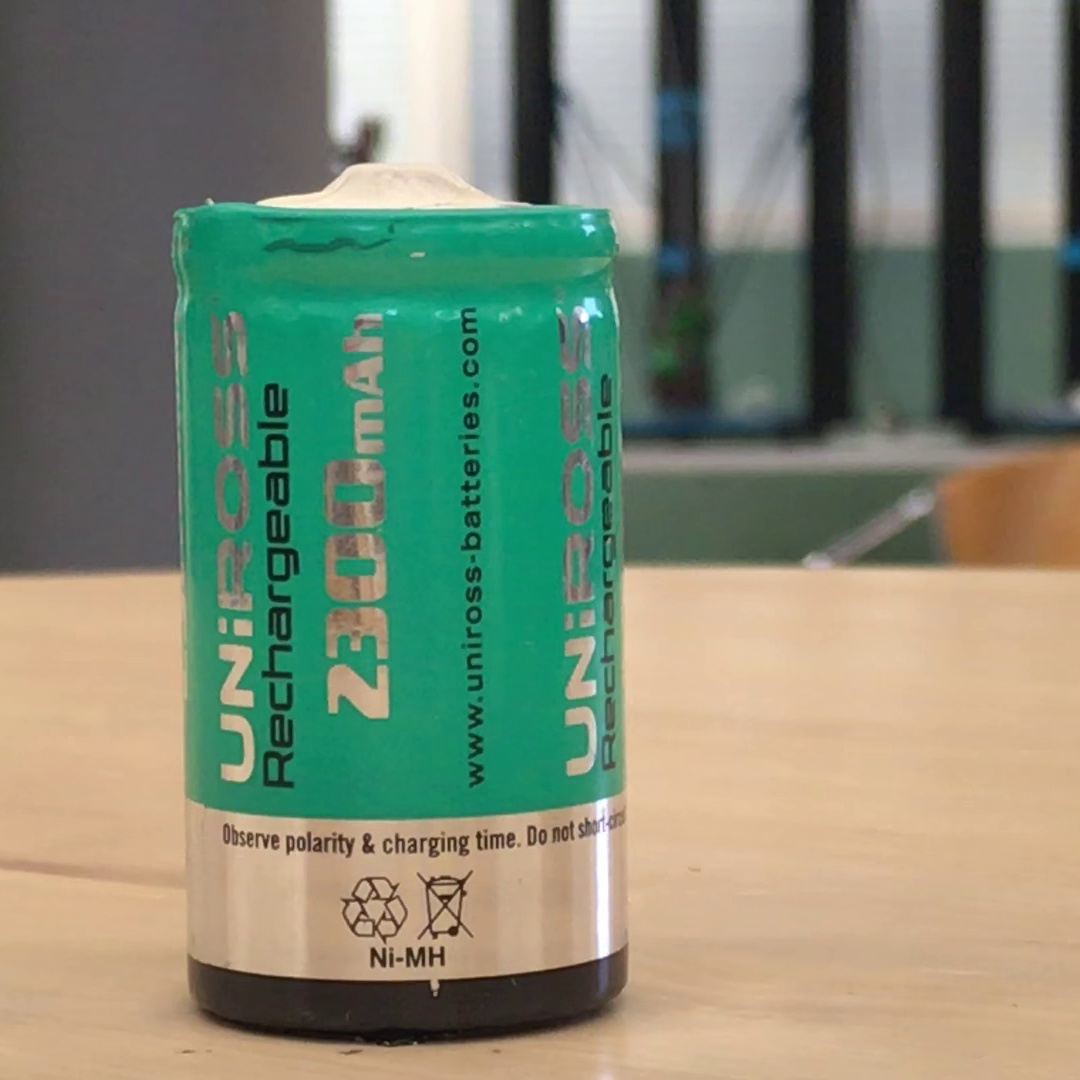keyword: (360, 936, 455, 978)
